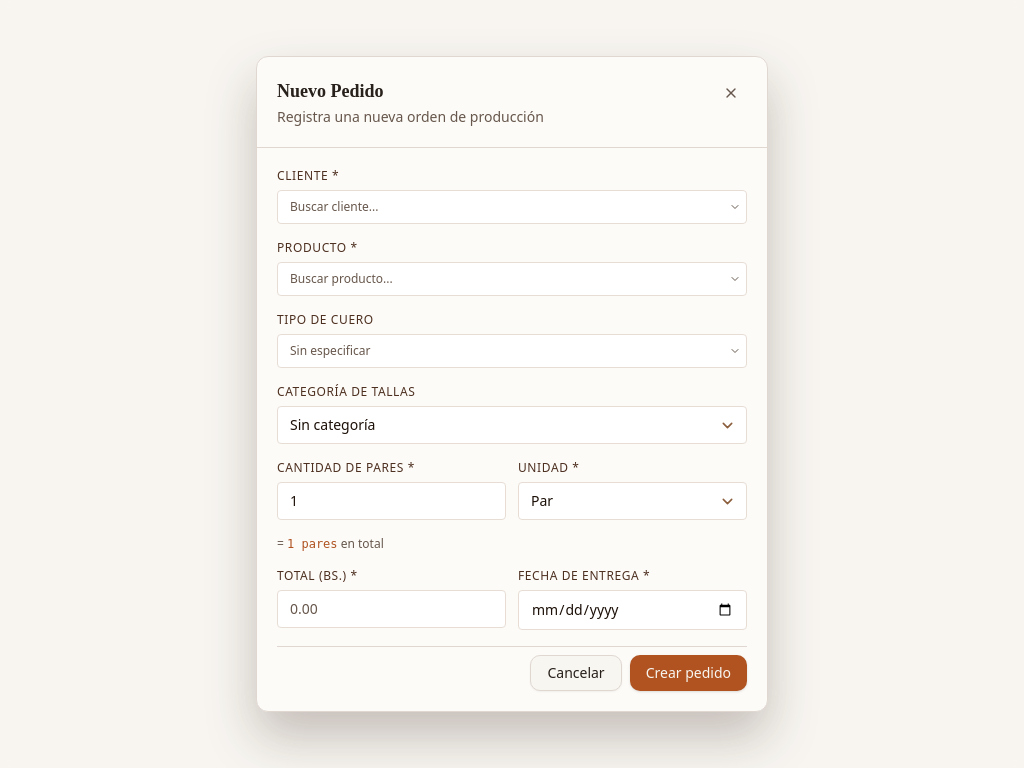
it: PedidoModal — validación › rechaza una fecha de entrega en el pasado
Click the field with placeholder "Buscar cliente...".
click(512, 207)  # box [277,190,747,224]
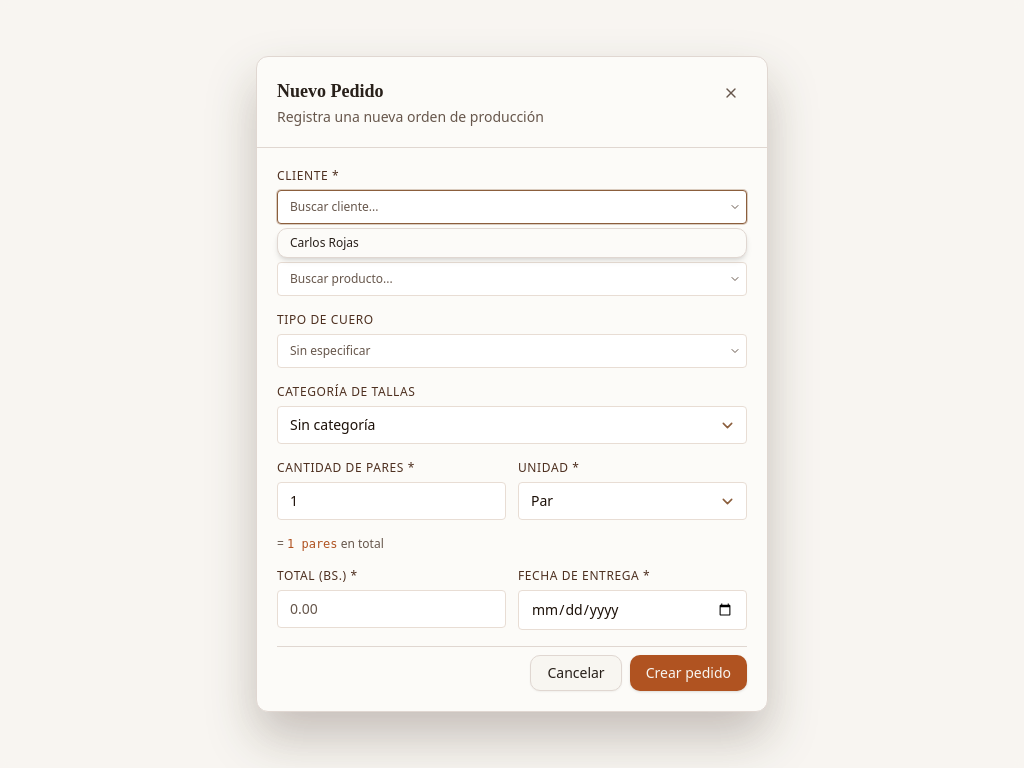
Click the button "Carlos Rojas".
click(324, 242)  # box [278,229,746,257]
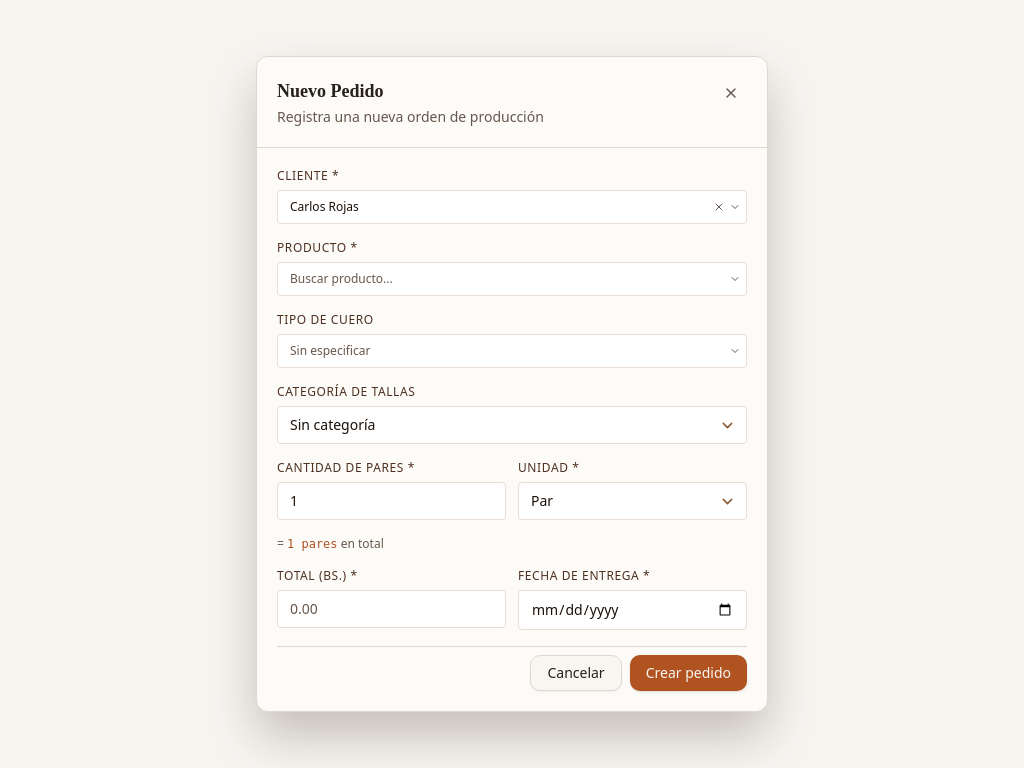
Click the field with placeholder "Buscar producto...".
click(512, 279)  # box [277,262,747,296]
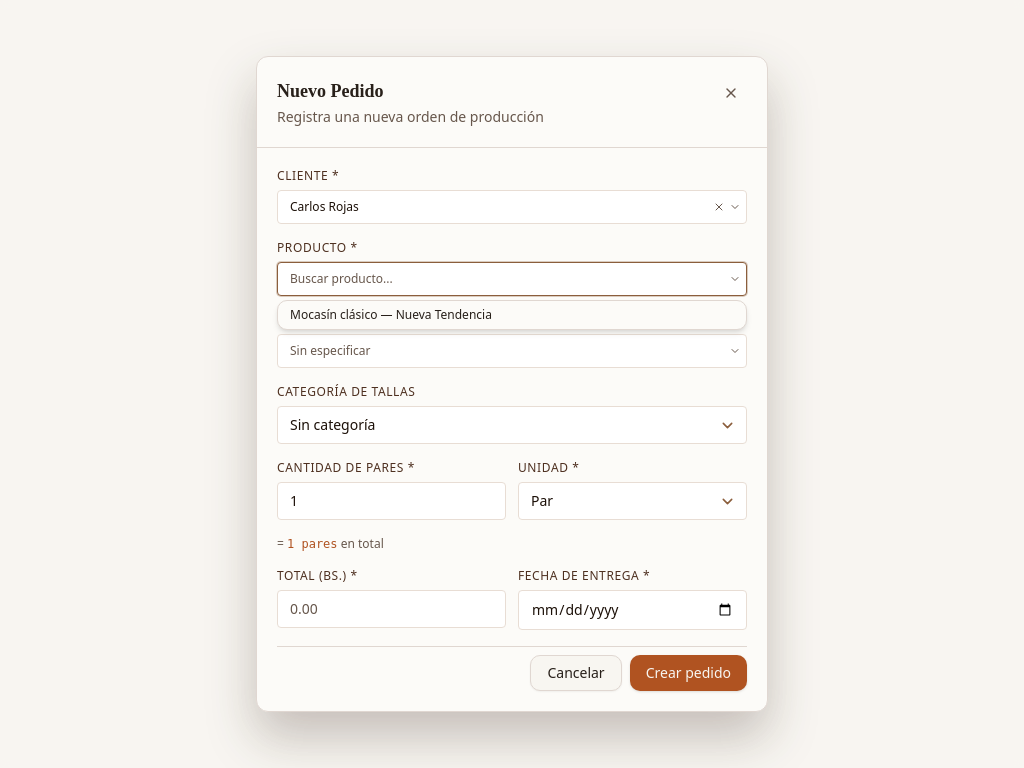
Click the button "Mocasín clásico — Nueva Tendencia".
click(391, 314)  # box [278,301,746,329]
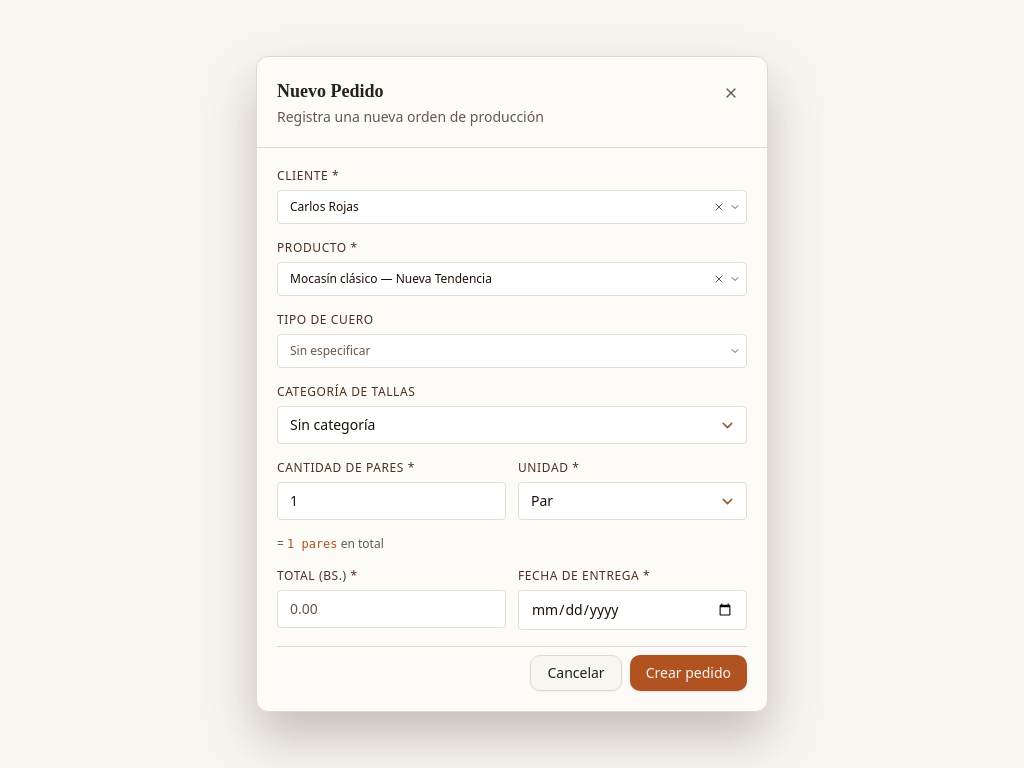
Type "500" into the number field with placeholder "0.00".
click(392, 609); type("500")  # box [277,590,506,628]
Type "2020-01-01" into the date field.
click(632, 610); type("2020-01-01")  # box [518,590,747,630]
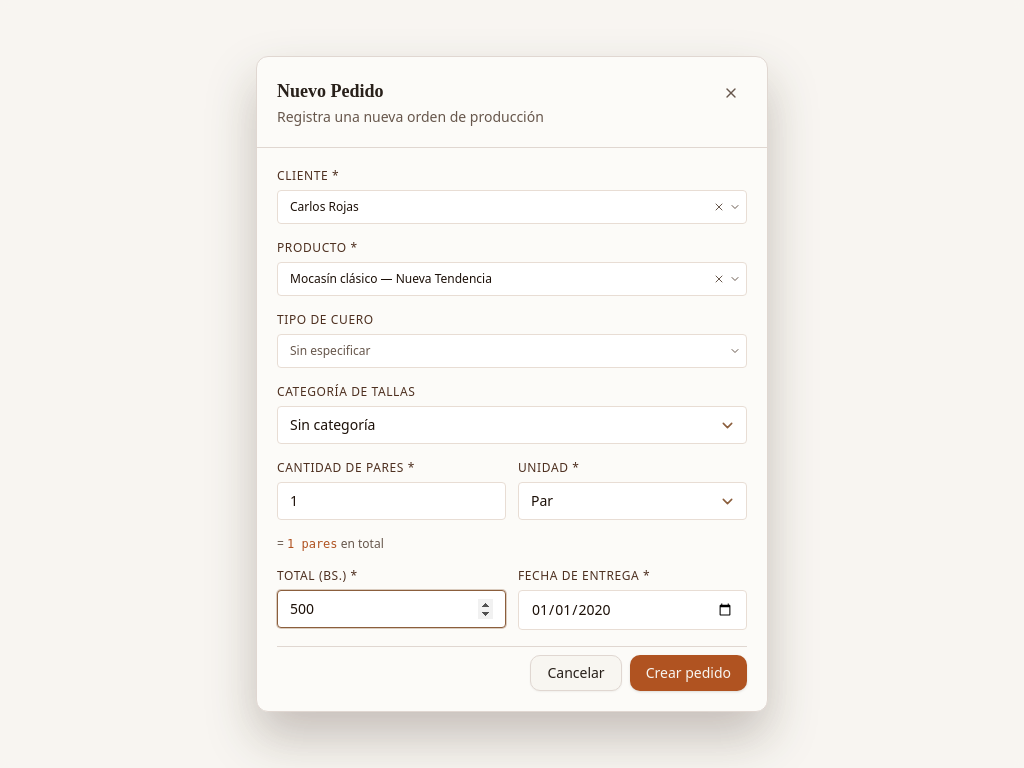
Click the button "Crear pedido".
click(688, 673)  # box [630,655,747,691]
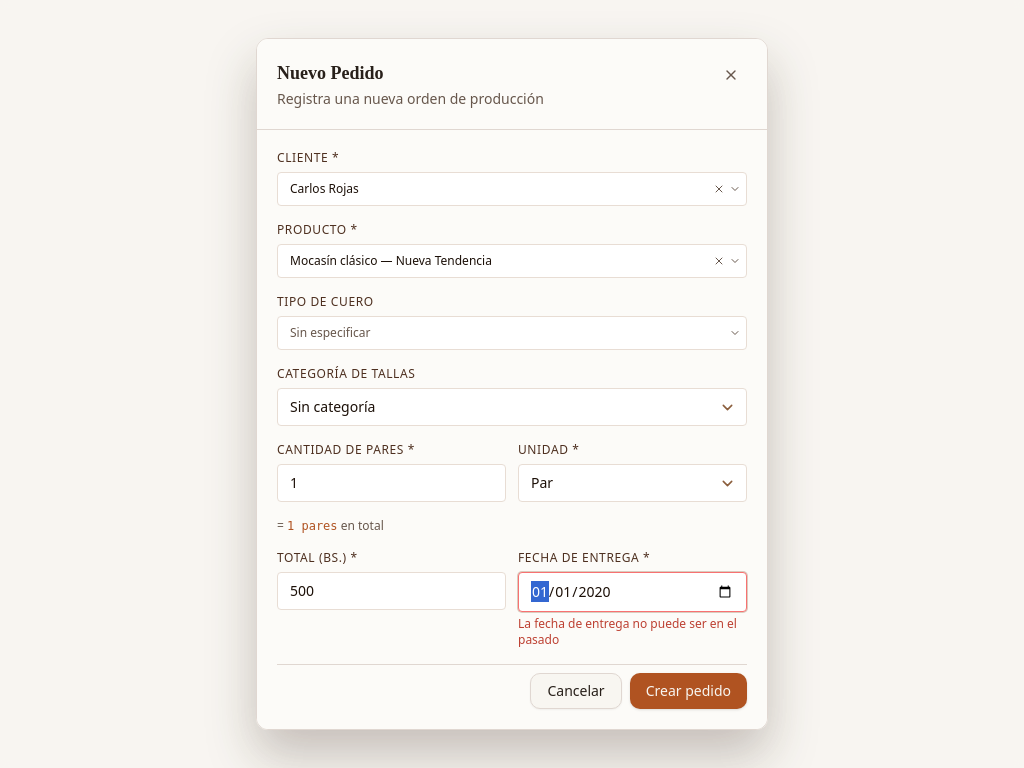
Expected: the text "La fecha de entrega no puede ser en el pasado" is shown, [518,616,747,648]
